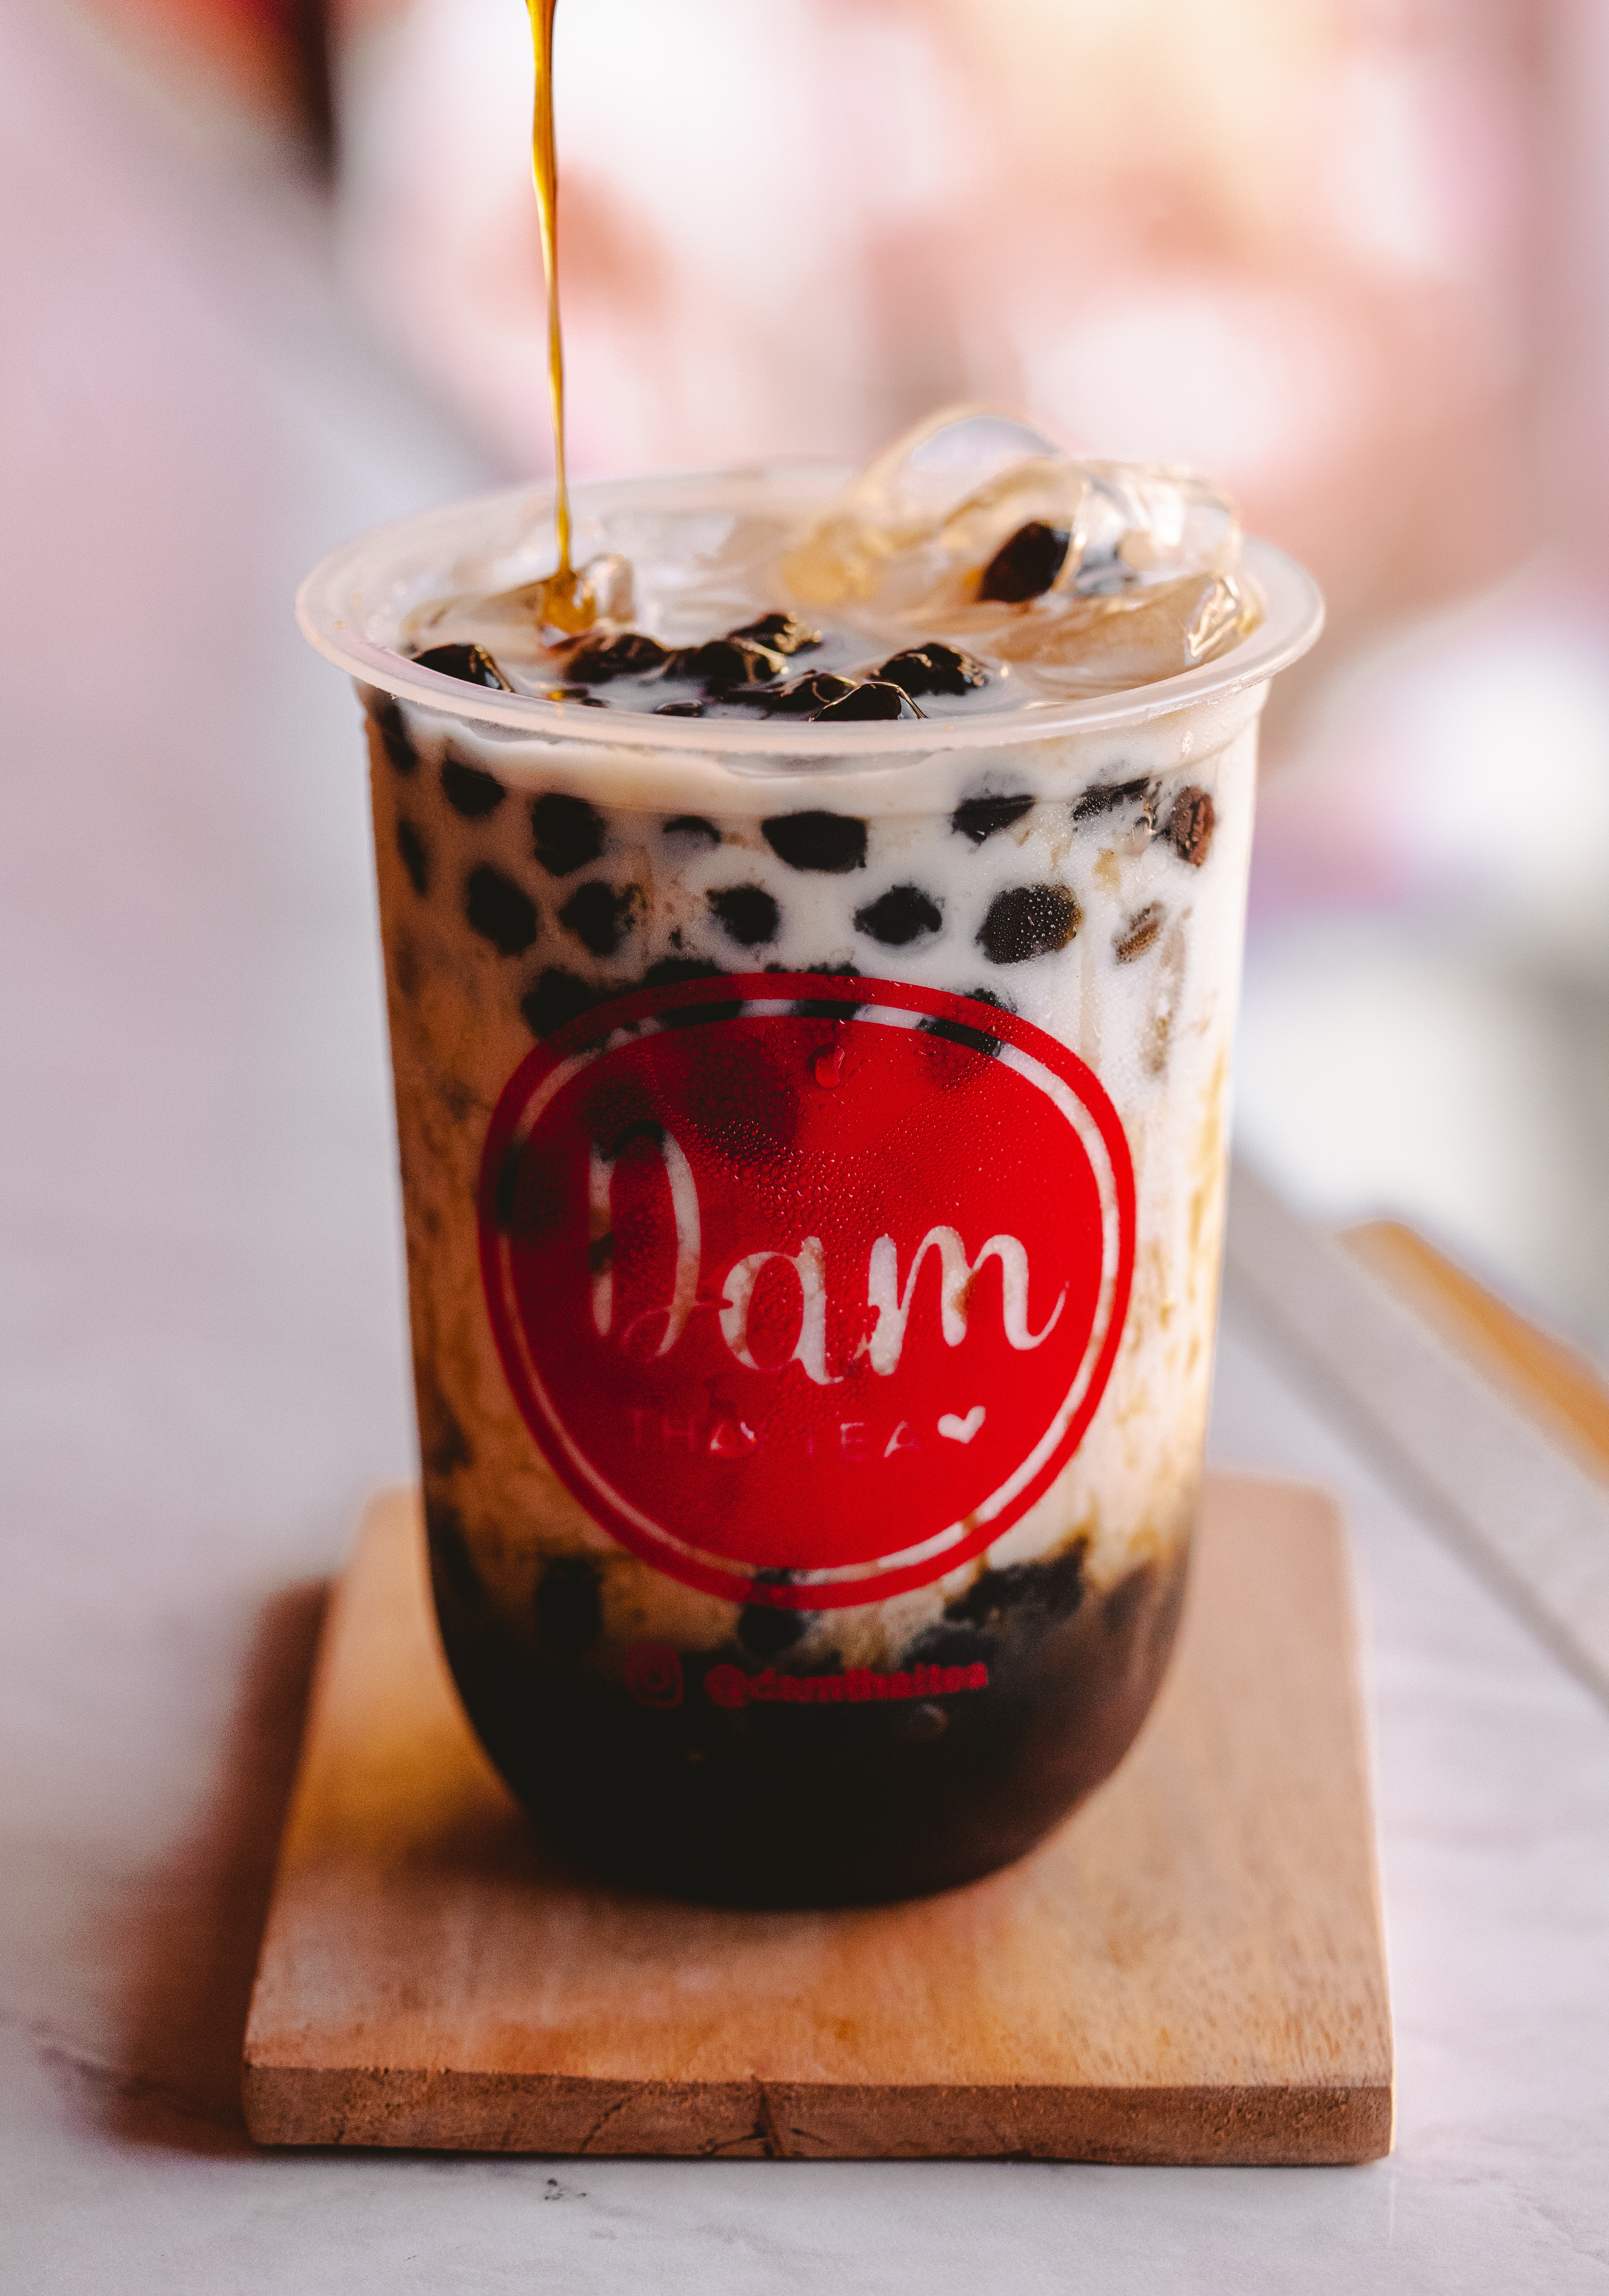boba: (679, 1042, 798, 1162), (911, 981, 1017, 1085), (475, 1134, 564, 1242), (951, 1553, 1085, 1624), (517, 967, 613, 1052), (907, 1628, 998, 1712), (792, 960, 873, 1054), (642, 953, 745, 1026), (525, 1553, 602, 1643), (590, 1069, 665, 1162), (983, 890, 1080, 956), (984, 523, 1068, 597), (818, 679, 920, 738), (462, 869, 534, 951), (766, 810, 864, 869), (733, 1574, 804, 1654), (532, 796, 600, 869), (876, 642, 977, 691), (558, 885, 628, 953), (569, 628, 651, 686), (417, 639, 499, 694), (857, 888, 941, 942), (442, 747, 506, 817), (686, 632, 763, 689), (368, 698, 421, 776), (951, 794, 1037, 837), (715, 886, 778, 944), (743, 607, 817, 653), (1115, 900, 1167, 958), (1171, 792, 1215, 860), (394, 815, 433, 890), (1103, 1565, 1147, 1630), (759, 673, 839, 705)
